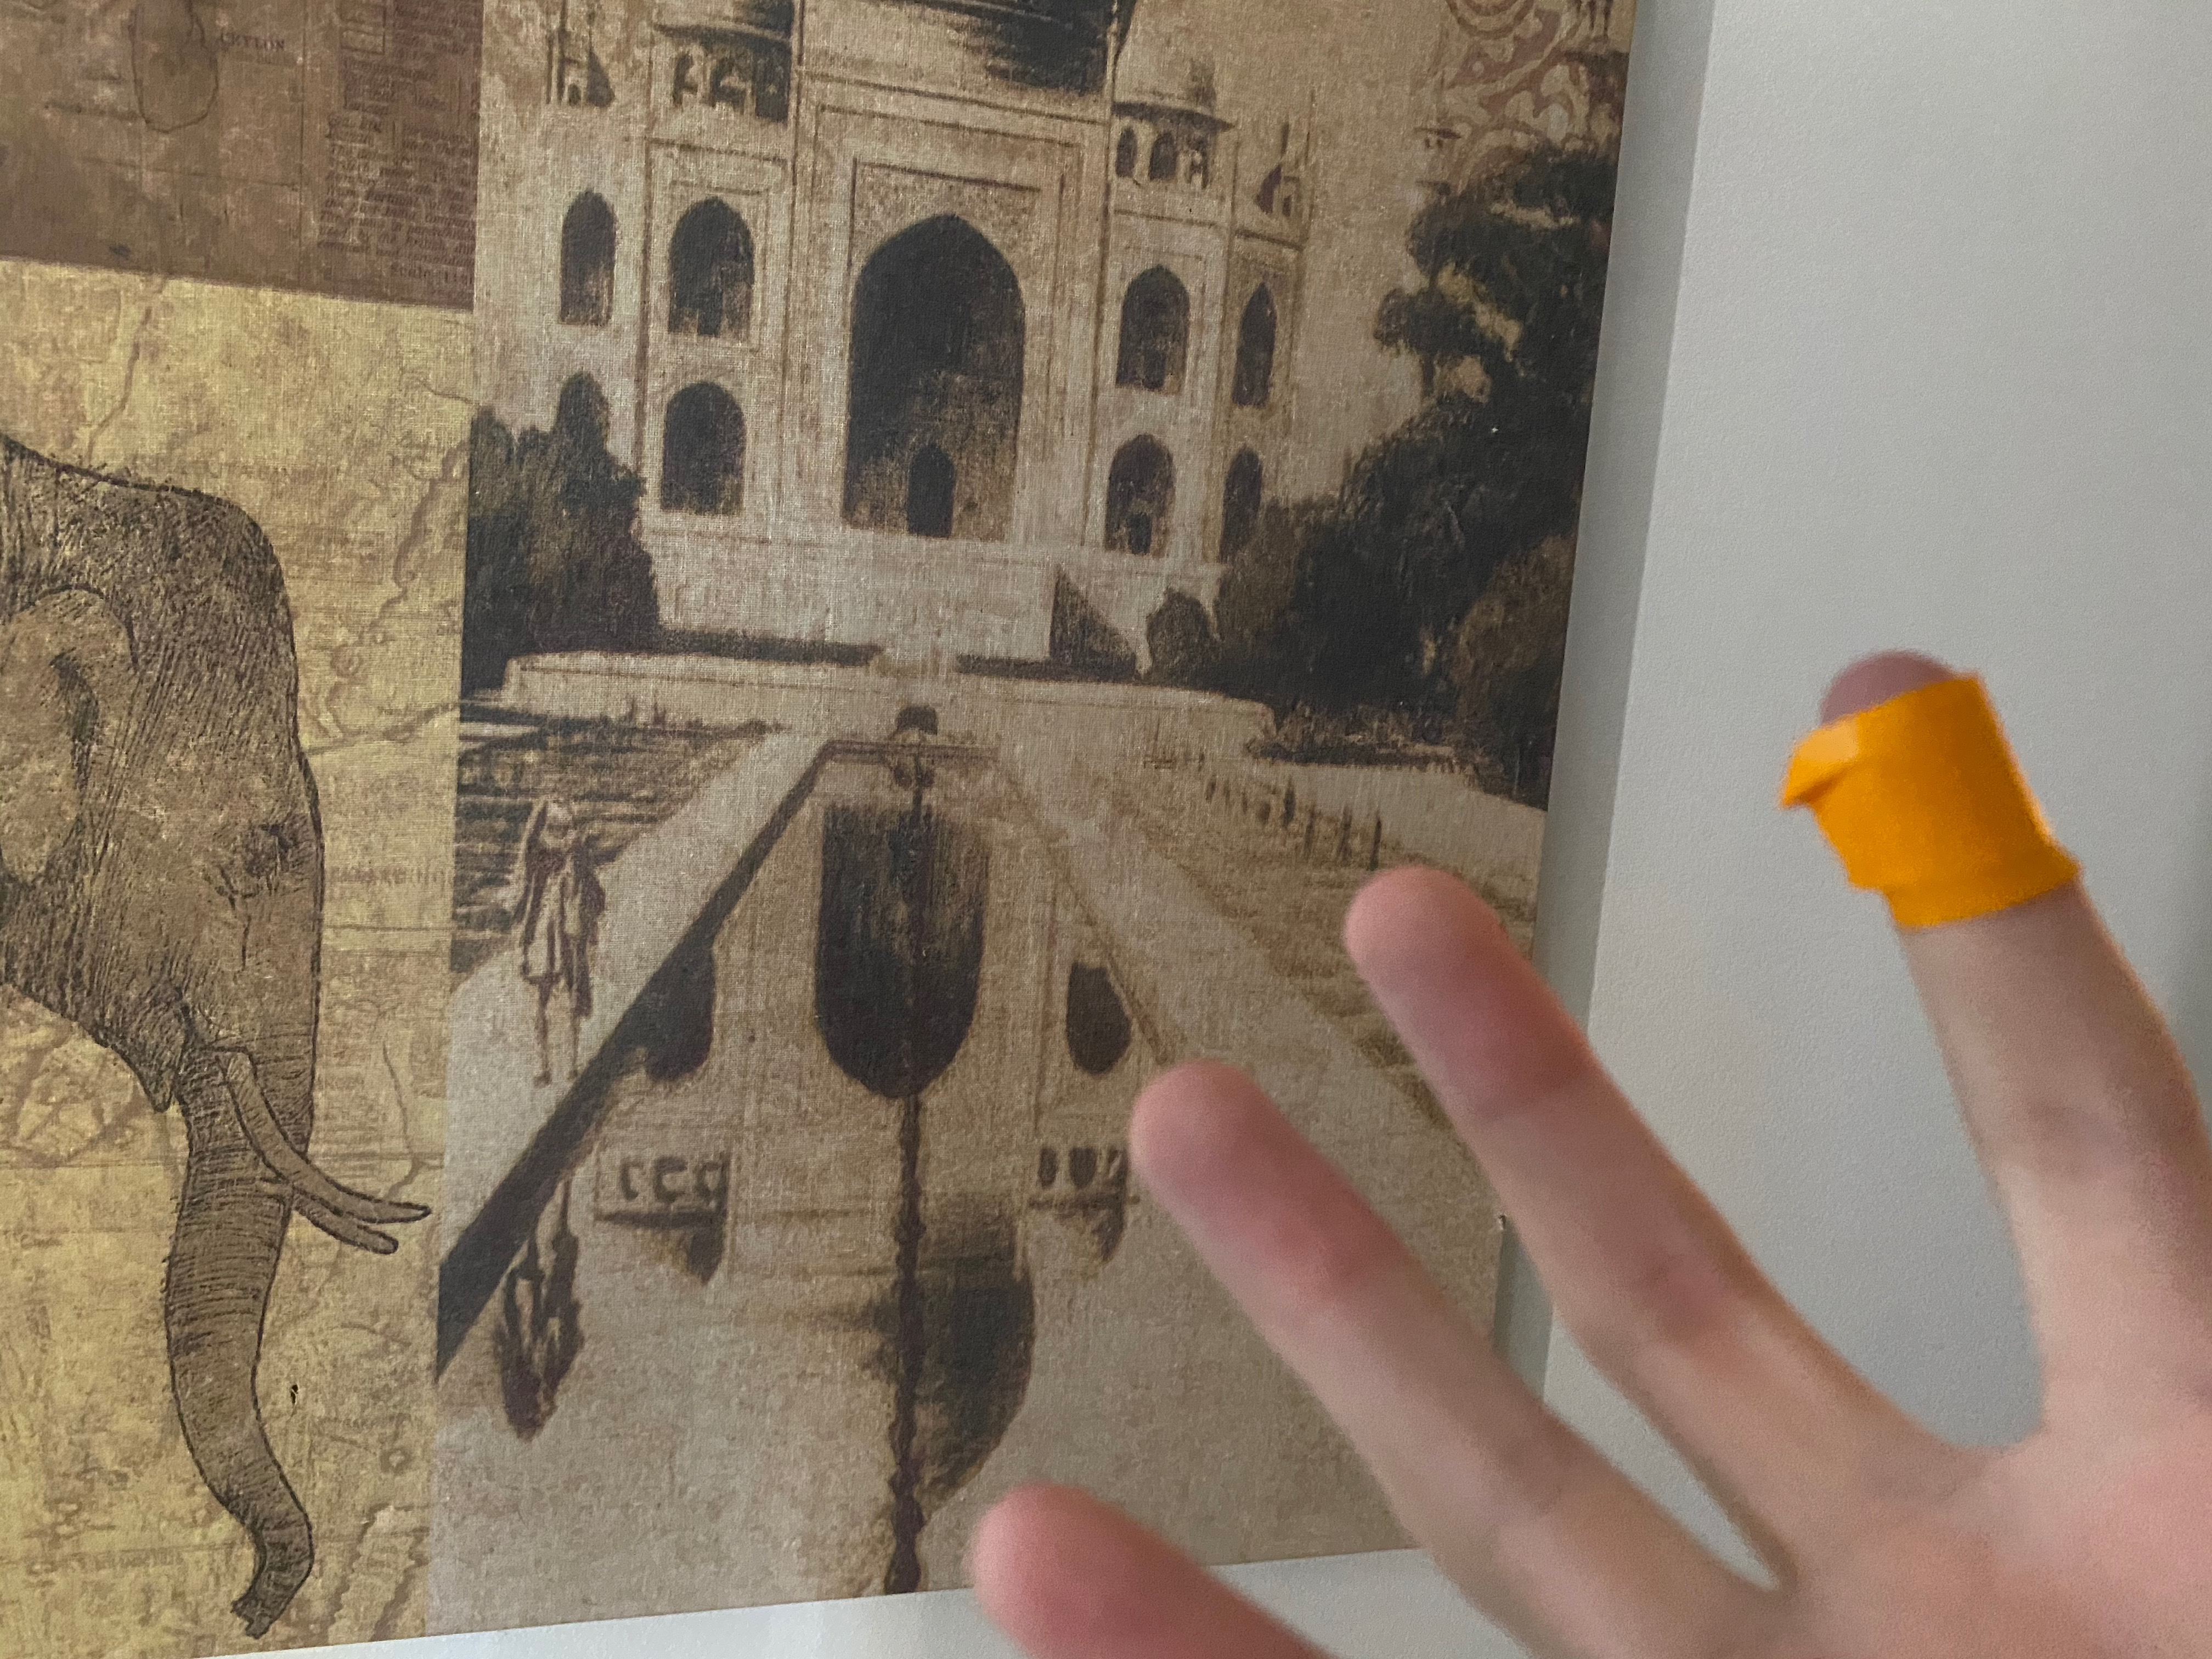fingertip: (1757, 633, 2088, 932)
